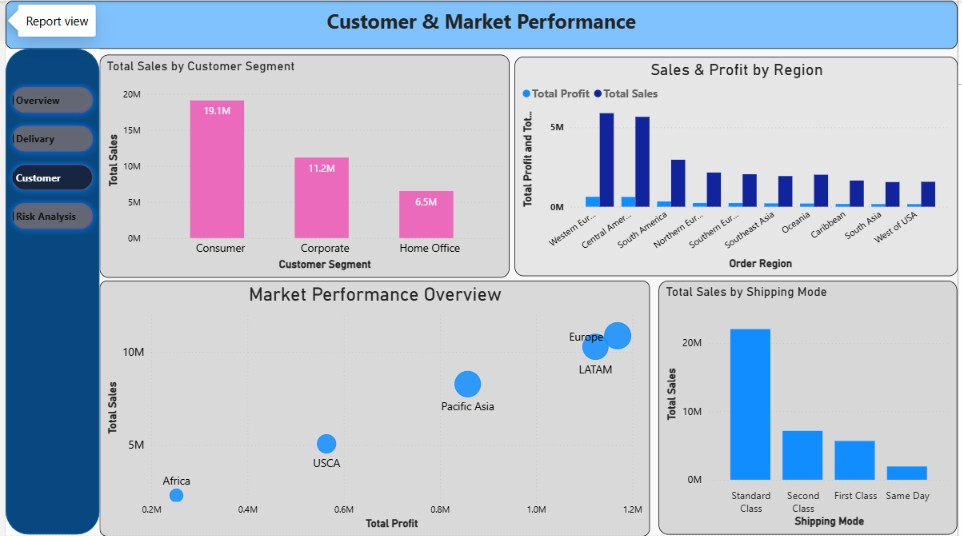

The dashboard page shown, as its layout file describes it:
{"tool":"powerbi","page":{"name":"Customer","canvas":[1280,720],"ordinal":2},"visuals":[{"type":"clusteredColumnChart","fields":{"Category":["DataCoSupplyChainDataset (2).Customer Segment"],"Y":["DataCoSupplyChainDataset (2).Total Sales"]},"box":[126.4,72.6,551.4,299.9],"z":0},{"type":"clusteredColumnChart","title":"Sales & Profit by Region","fields":{"Category":["DataCoSupplyChainDataset (2).Order Region"],"Y":["DataCoSupplyChainDataset (2).Total Profit","DataCoSupplyChainDataset (2).Total Sales"]},"box":[684,74.7,596,295.5],"z":1000},{"type":"scatterChart","title":"Market Performance Overview","fields":{"Category":["DataCoSupplyChainDataset (2).Market"],"X":["DataCoSupplyChainDataset (2).Total Profit"],"Size":["DataCoSupplyChainDataset (2).Total Orders"],"Y":["DataCoSupplyChainDataset (2).Total Sales"]},"box":[126.4,376.6,739.7,344.3],"z":2000},{"type":"clusteredColumnChart","fields":{"Y":["DataCoSupplyChainDataset (2).Total Sales"],"Category":["DataCoSupplyChainDataset (2).Shipping Mode"]},"box":[878.2,376.9,401.8,342],"z":3000},{"type":"textbox","box":[0,0,1280.3,64.6],"z":4000},{"type":"shape","box":[0,64.6,126.4,653.6],"z":9000},{"type":"pageNavigator","box":[0,107.6,126.4,209.8],"z":10000}]}

Visuals, with their boxes on the page's 1280x720 design canvas (x1, y1, x2, y2). These are canvas units, not pixel positions in the 962x536 screenshot, which may show the page scaled, cropped or inside an application window:
clusteredColumnChart - DataCoSupplyChainDataset (2).Customer Segment x DataCoSupplyChainDataset (2).Total Sales: bbox=(126, 73, 678, 372)
"Sales & Profit by Region" clusteredColumnChart: bbox=(684, 75, 1280, 370)
"Market Performance Overview" scatterChart: bbox=(126, 377, 866, 721)
clusteredColumnChart - DataCoSupplyChainDataset (2).Total Sales x DataCoSupplyChainDataset (2).Shipping Mode: bbox=(878, 377, 1280, 719)
textbox: bbox=(0, 0, 1280, 65)
shape: bbox=(0, 65, 126, 718)
pageNavigator: bbox=(0, 108, 126, 317)
